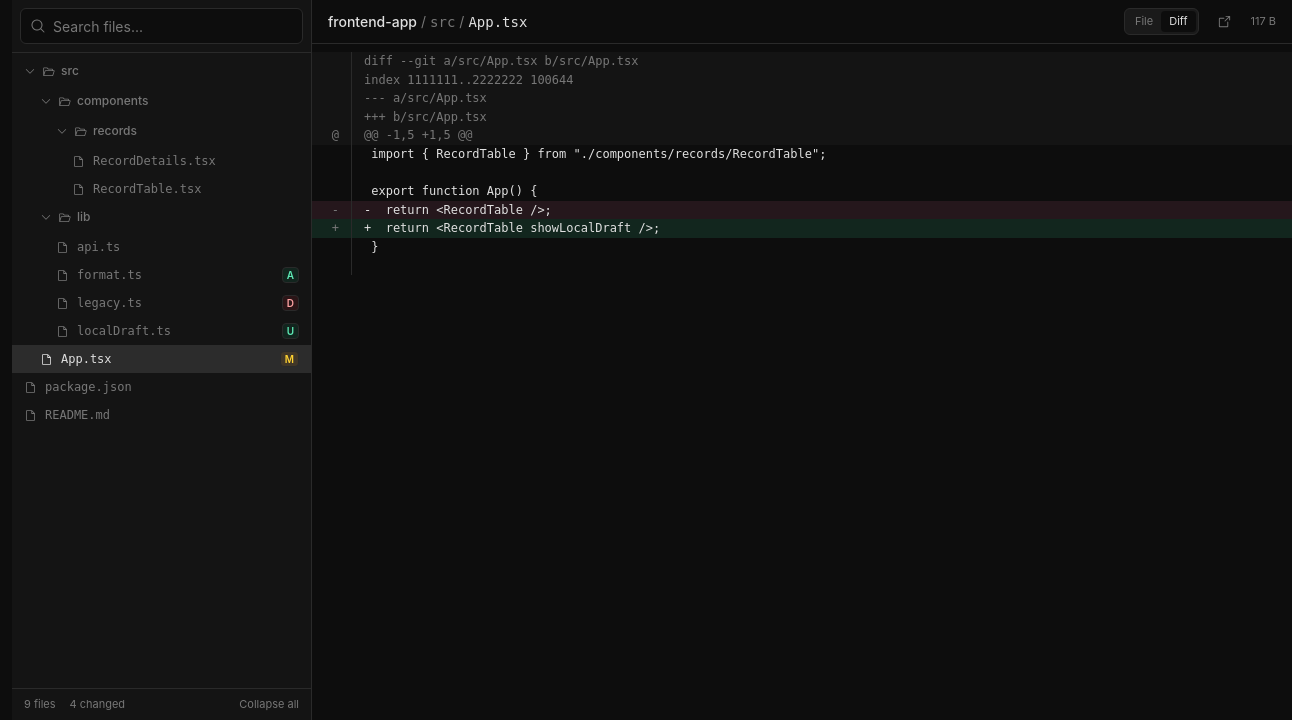
Scenario: RepositoryExplorerPanel › toggles all visible folders between collapsed and expanded
Check: the button "App.tsx M" is shown, box [12,345,311,373]
Click the button "Collapse all": click(269, 705) [239,696,299,713]
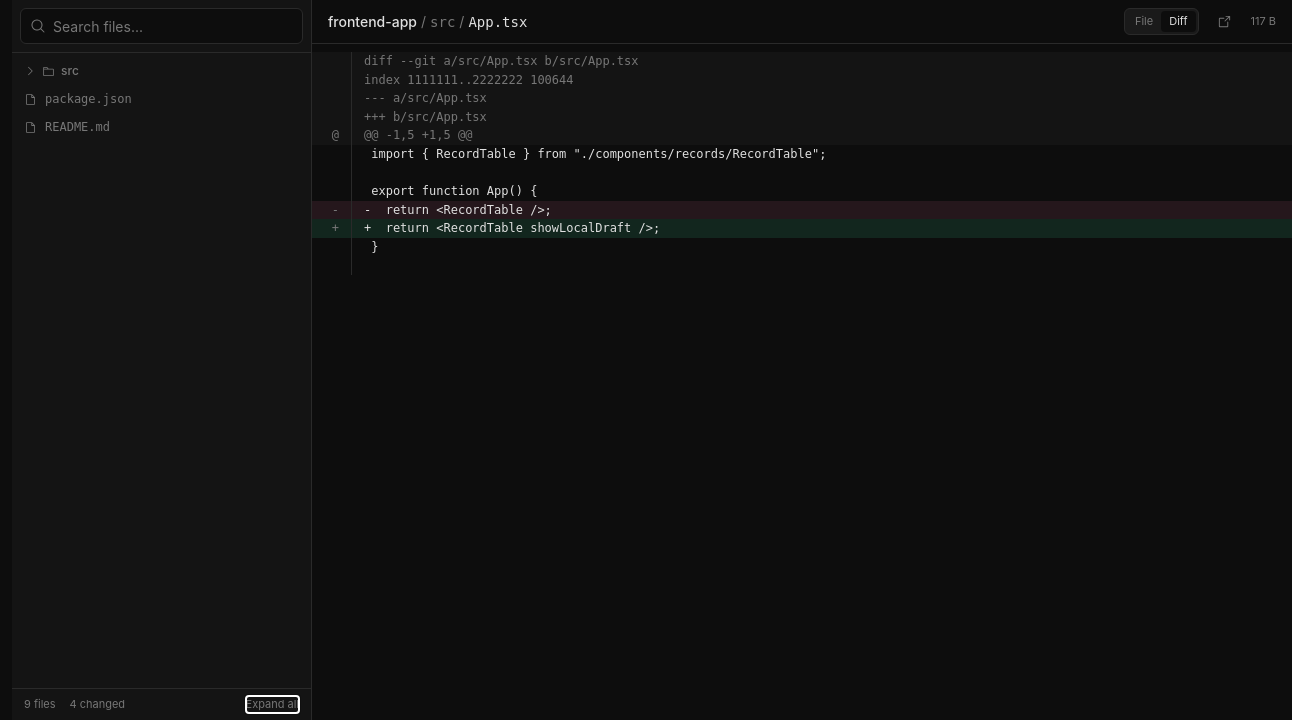
Check: the button "Expand all" is shown
Click the button "Expand all": click(272, 705) [246,696,299,713]
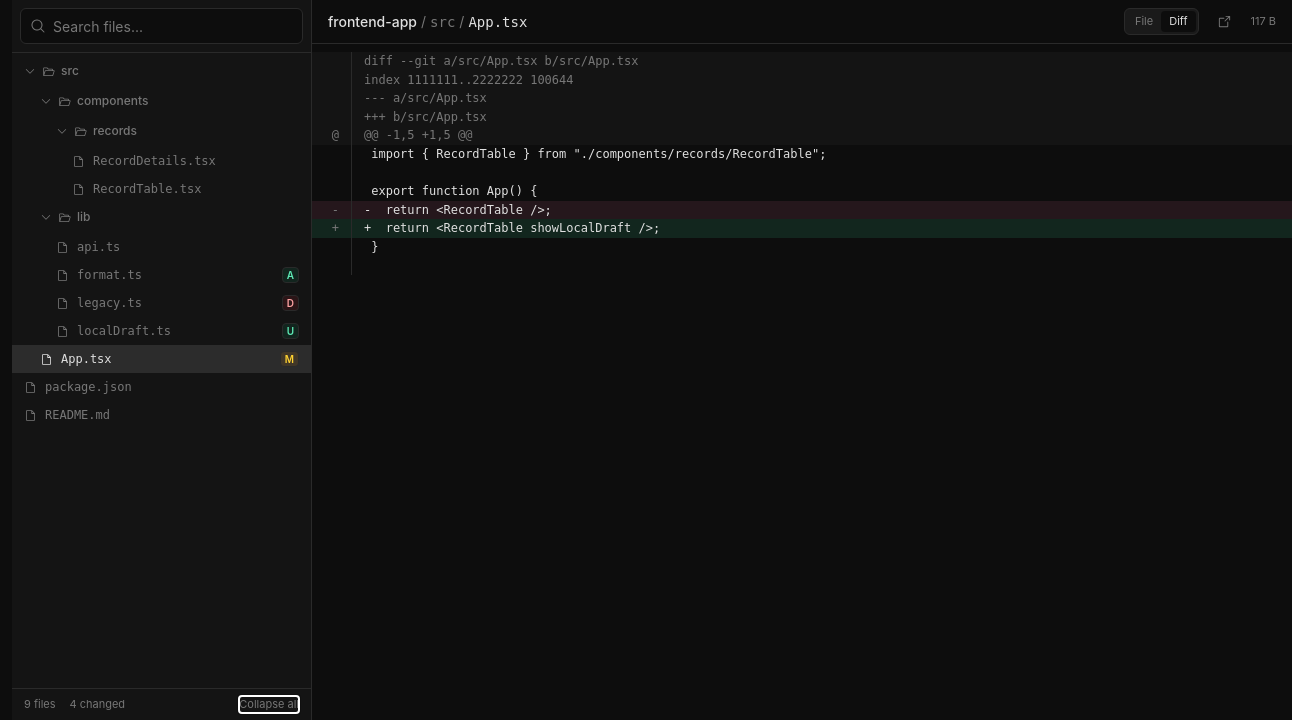
Check: the button "App.tsx M" is shown, box [12,345,311,373]
Check: the button "Collapse all" is shown, box [239,696,299,713]
